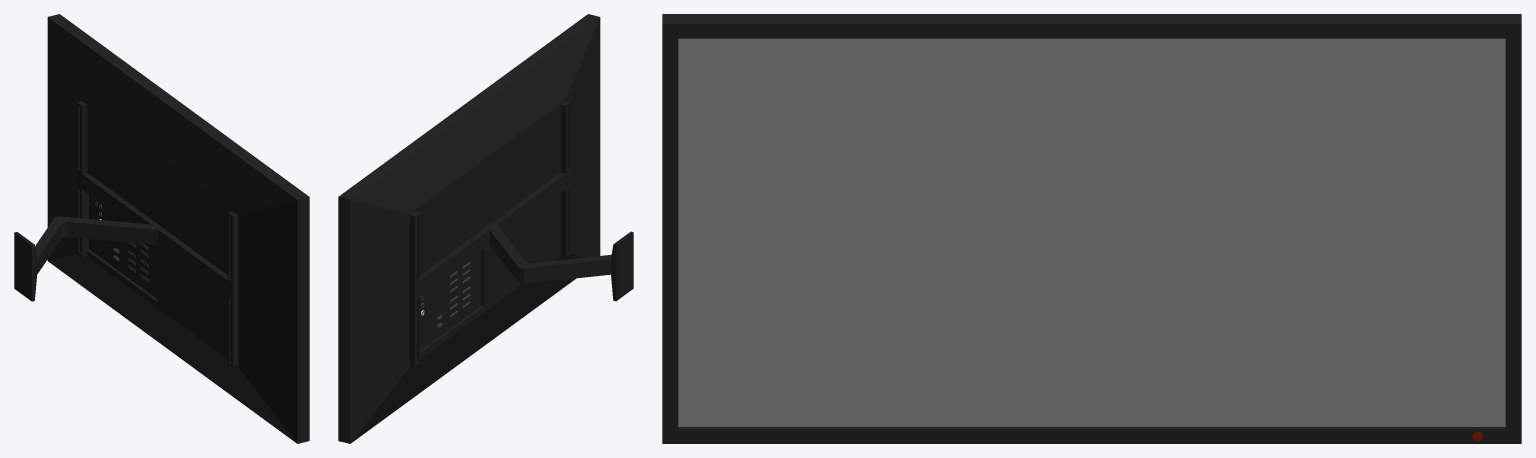
Rendered from TV_WithArm_Off.fbx.
3 views of the same model, side by side, from view 1: azimuth 30°, elevation 25°; view 2: azimuth 150°, elevation 25°; view 3: azimuth 270°, elevation 25° (orthographic). The views are drawn at different scales.
Visible parts, largest first — view 1: Cube; view 2: Cube; view 3: Cube.
Part boxes in pixels (x1,y1,x2,y2): Cube: (14, 14, 309, 443); Cube: (338, 14, 633, 443); Cube: (662, 14, 1521, 443).
Size of the model in its own units: 228 by 328 by 608.
